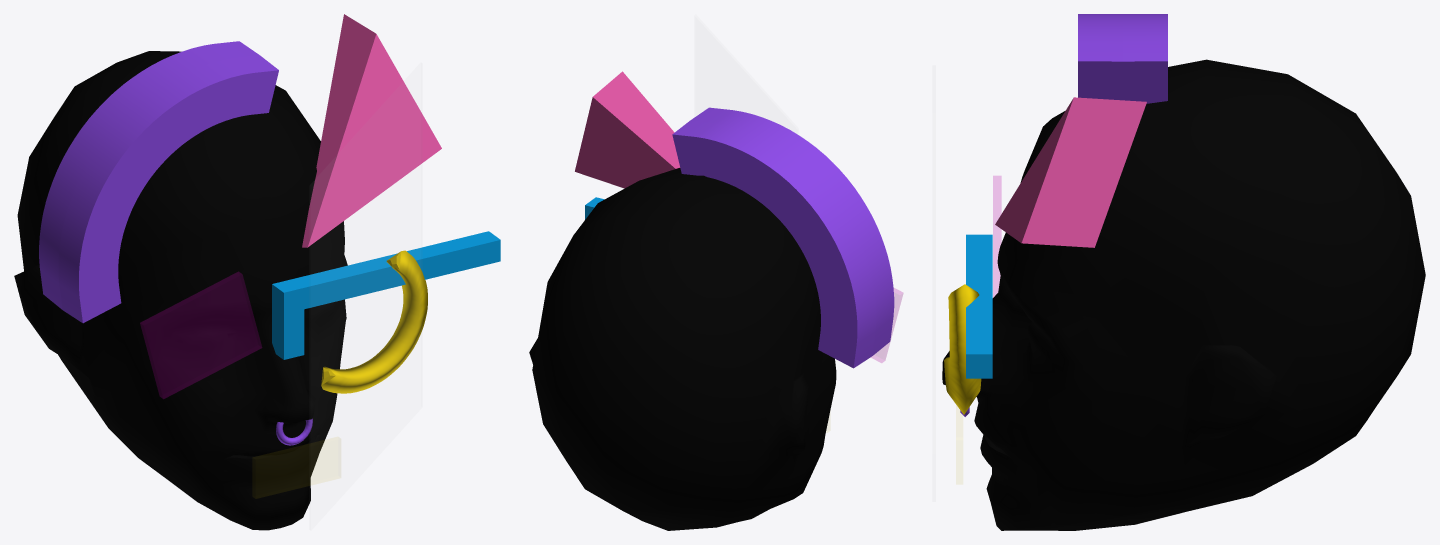
File: NewBauhaus-Filter.glb
3 renders of one model, left to right at view 1: azimuth 30°, elevation 25°; view 2: azimuth 150°, elevation 25°; view 3: azimuth 270°, elevation 25°, orthographic. The views are drawn at different scales.
Visible parts, largest first — view 1: face_geo, Torus.006, Cube.003, Cube.002, Cube, Torus.002; view 2: face_geo, Torus.006, Cube.003; view 3: face_geo, Cube.003, Torus.006, Cube, Torus.002, Cube.002.
Boxes of the visible parts, left/top/right/bottom form: face_geo: left=14, top=51, right=347, bottom=530; Torus.006: left=39, top=41, right=278, bottom=323; Cube.003: left=302, top=14, right=441, bottom=247; Cube.002: left=140, top=272, right=261, bottom=398; Cube: left=272, top=231, right=500, bottom=359; Torus.002: left=321, top=250, right=427, bottom=393; face_geo: left=529, top=168, right=836, bottom=530; Torus.006: left=672, top=107, right=894, bottom=368; Cube.003: left=575, top=71, right=680, bottom=188; face_geo: left=942, top=59, right=1425, bottom=530; Cube.003: left=995, top=97, right=1146, bottom=247; Torus.006: left=1078, top=14, right=1167, bottom=103; Cube: left=966, top=234, right=992, bottom=378; Torus.002: left=944, top=284, right=981, bottom=414; Cube.002: left=993, top=176, right=1001, bottom=297.
Size of the model in its own units: 0.2473 by 0.2952 by 0.2507.
